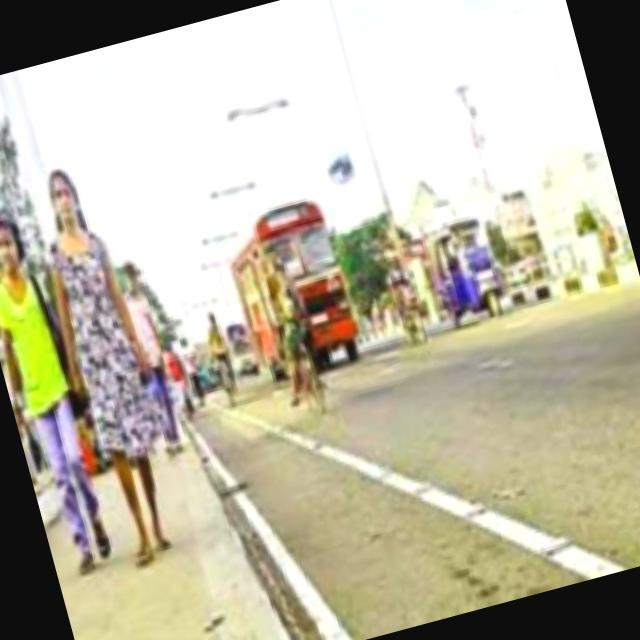Person: (18, 140, 220, 575), (0, 193, 132, 596)
